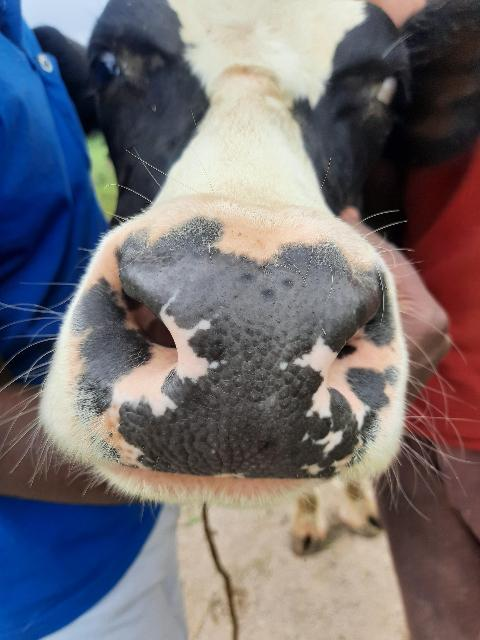Muzzle: (128, 234, 352, 478)
